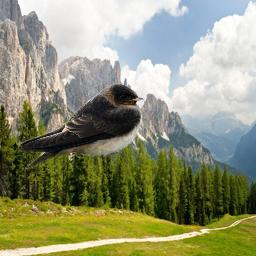Swallow: (18, 83, 145, 170)
